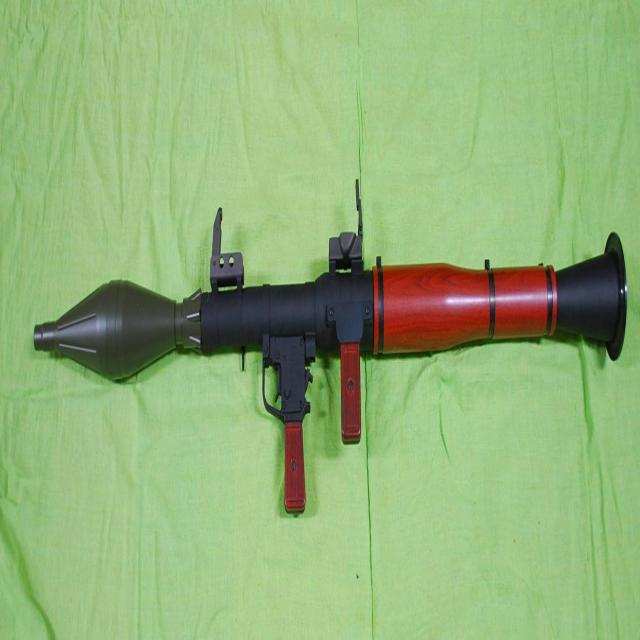bazooka: (19, 181, 638, 540)
